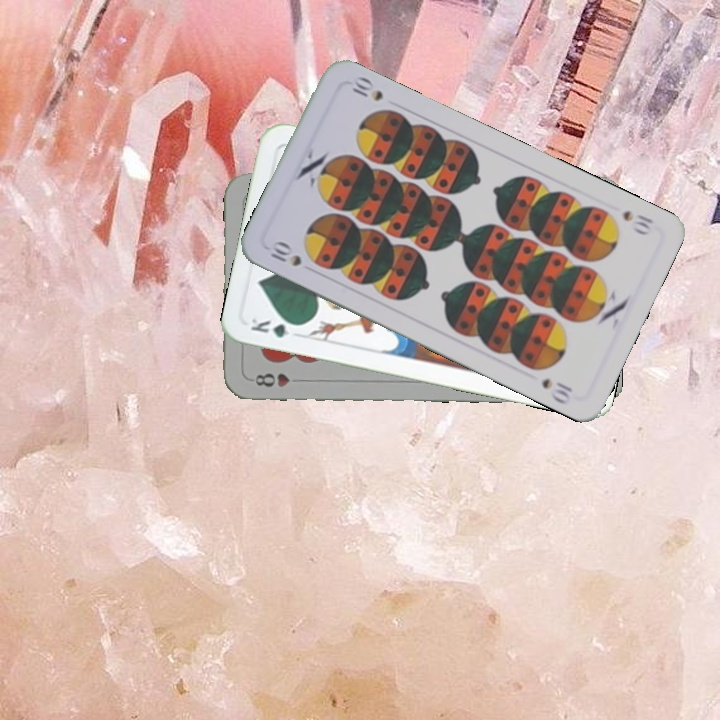GK: (246, 314, 305, 340)
H8: (252, 369, 293, 389)
S10: (266, 239, 304, 269), (618, 206, 656, 231)
